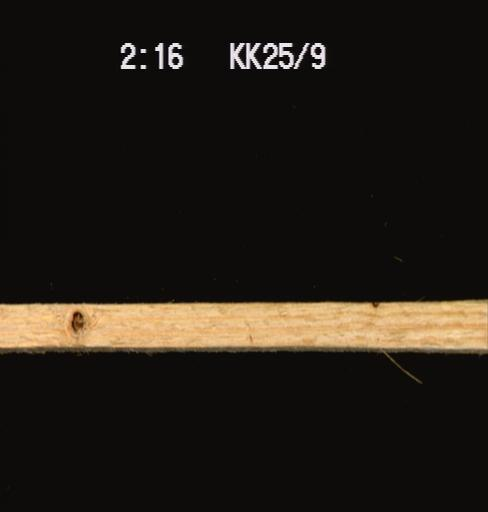dry_knot: (66, 307, 87, 335)
edge_knot: (365, 301, 386, 312)
